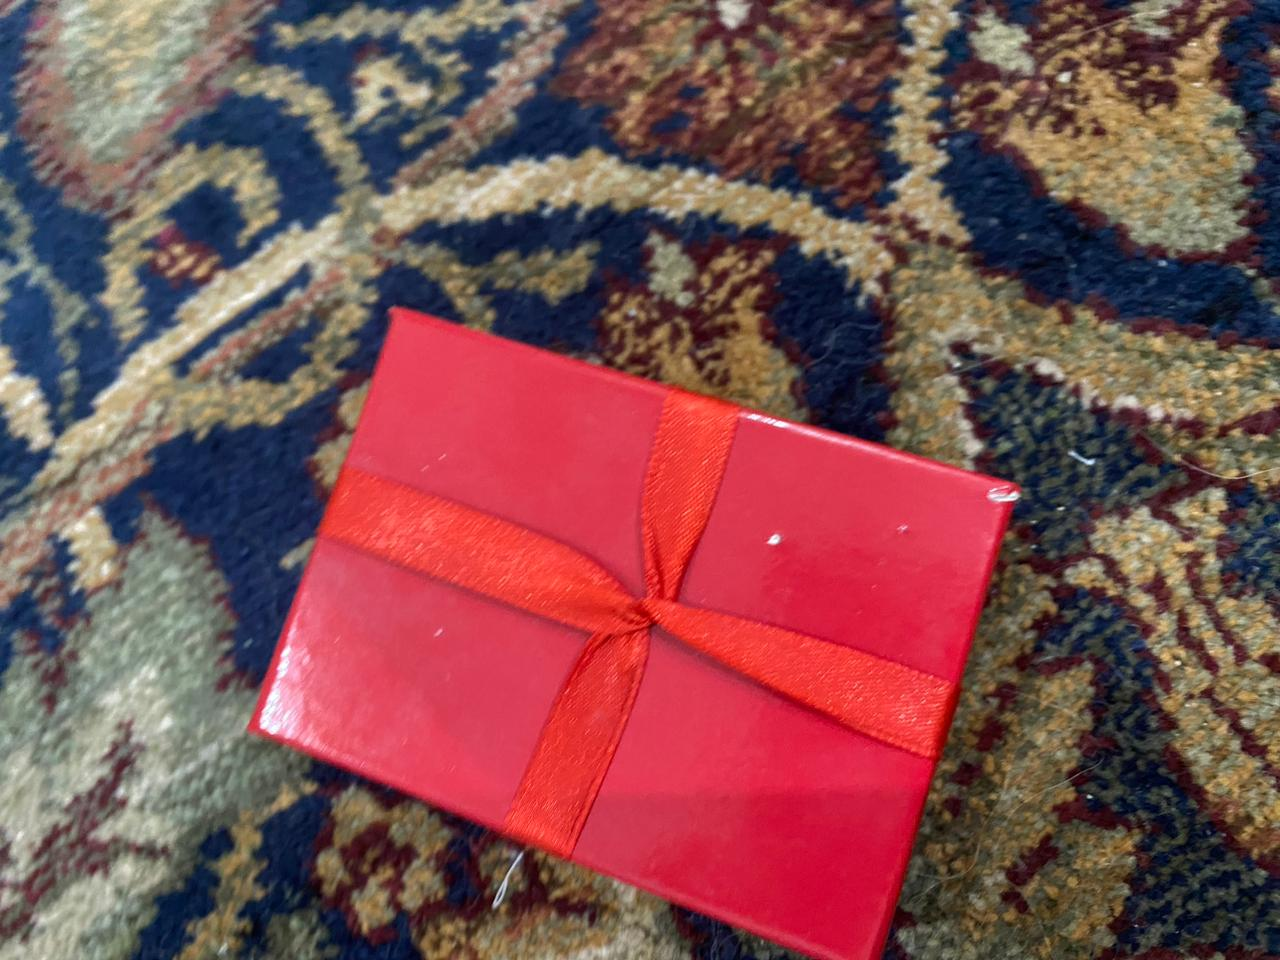Black Box: (236, 305, 1024, 960)
